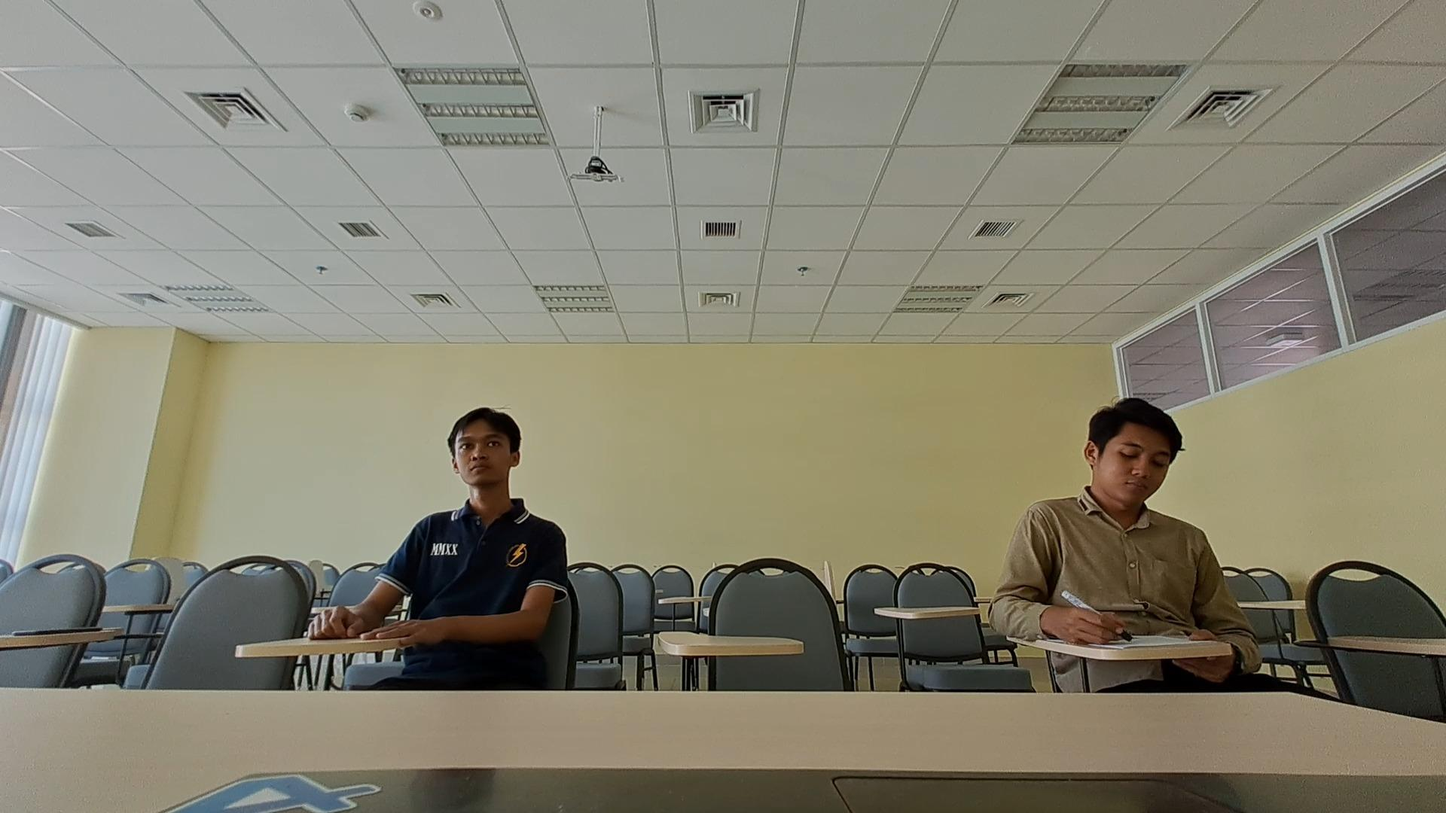sleep: (983, 396, 1247, 647)
study: (325, 405, 565, 634)
